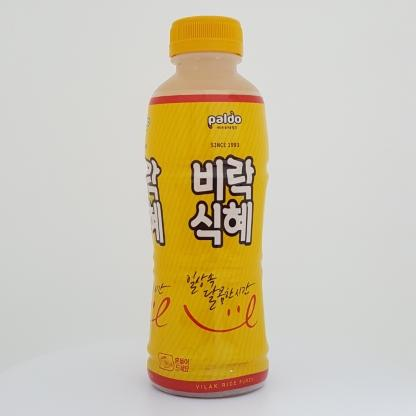------500ML: (145, 14, 270, 399)
